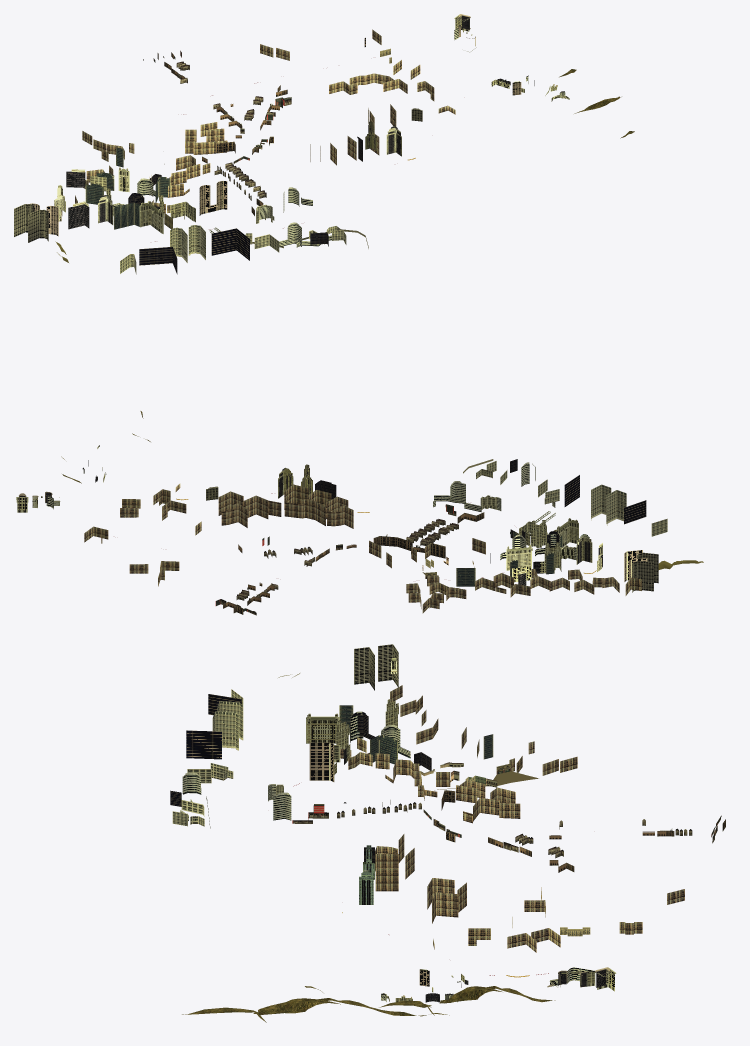
File: track-B2_C3_V2_env.glb
3 views of the same model, one above another, from view 1: azimuth 30°, elevation 25°; view 2: azimuth 150°, elevation 25°; view 3: azimuth 270°, elevation 25° (orthographic). The views are drawn at different scales.
Visible parts, largest first — view 1: B2_C3_V2_env; view 2: B2_C3_V2_env; view 3: B2_C3_V2_env.
Part boxes in pixels (x1,y1,x2,y2): B2_C3_V2_env: [14, 14, 634, 274]; B2_C3_V2_env: [16, 411, 703, 615]; B2_C3_V2_env: [170, 644, 725, 1022].
Bounding box in the file's own units: 3415 × 233 × 2880.
22 materials, 21 textured.
